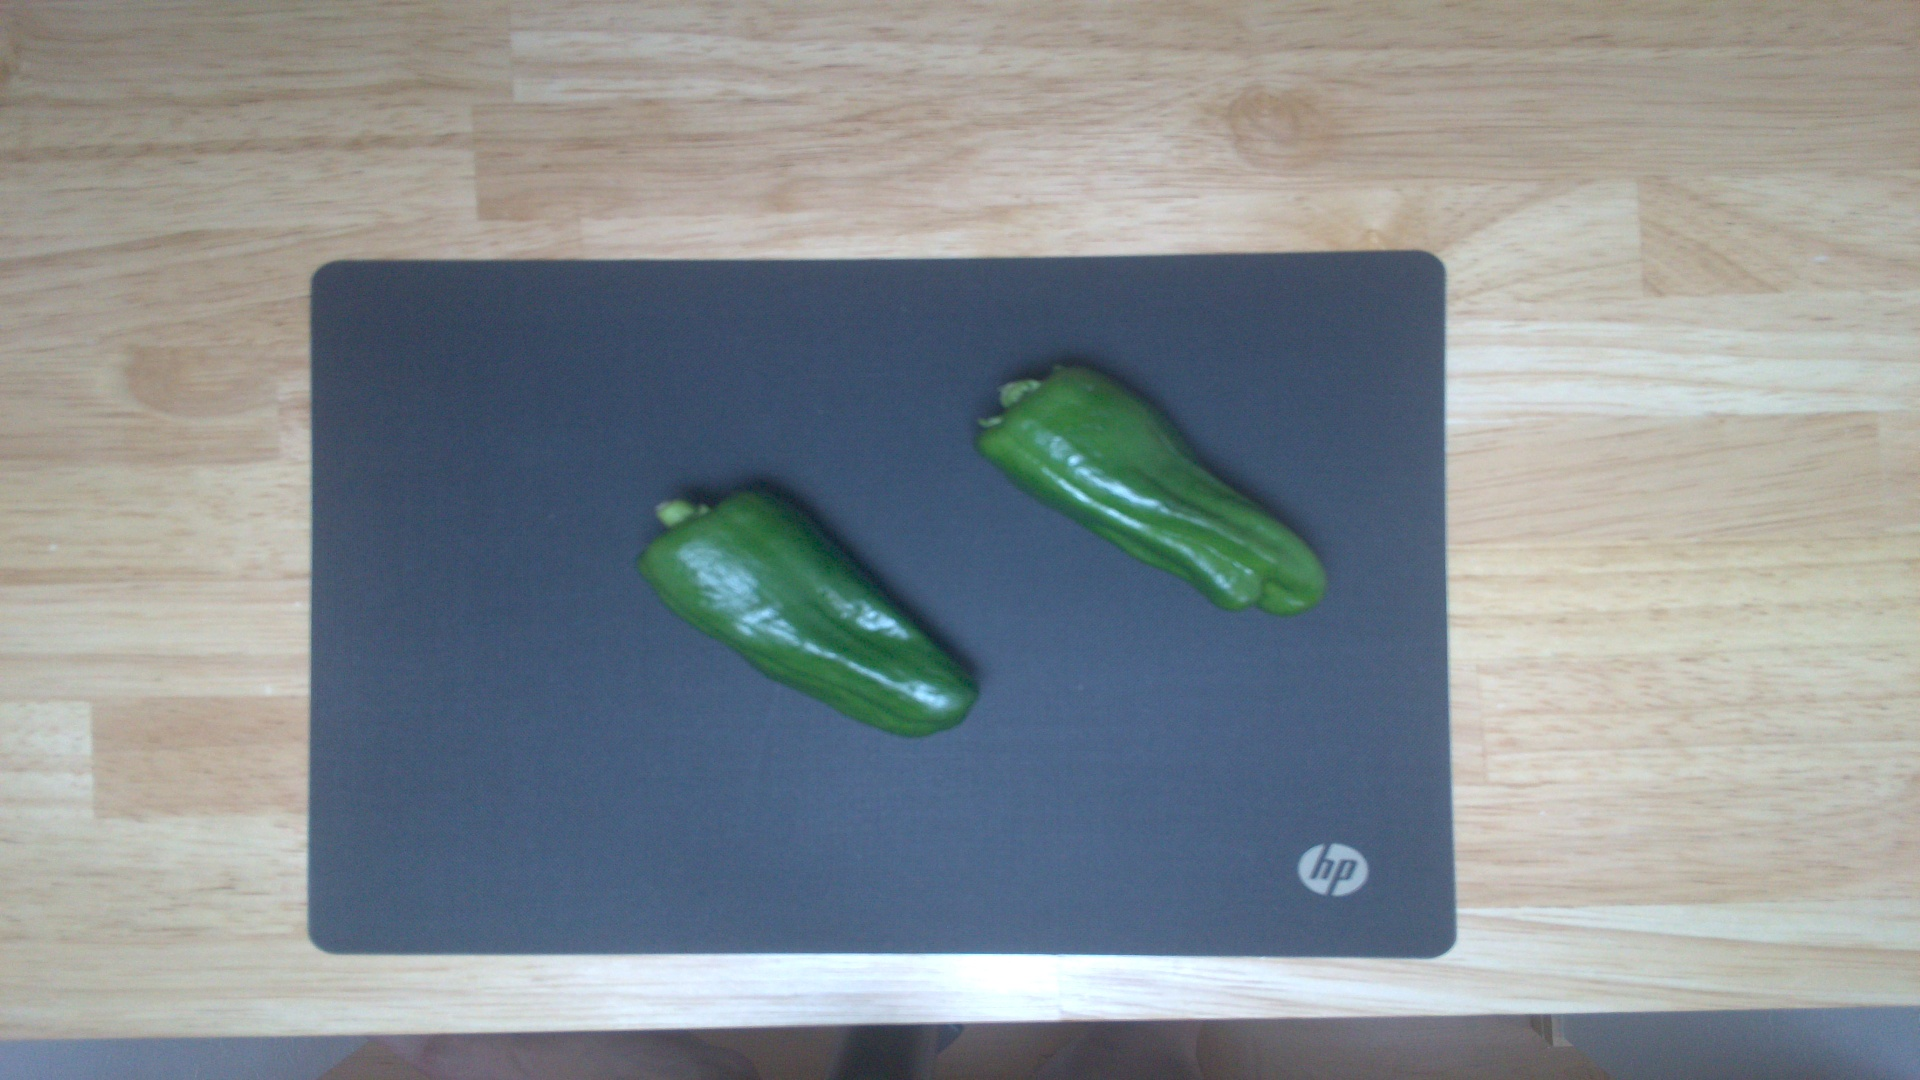Piman: (630, 480, 986, 741), (975, 359, 1332, 618)
